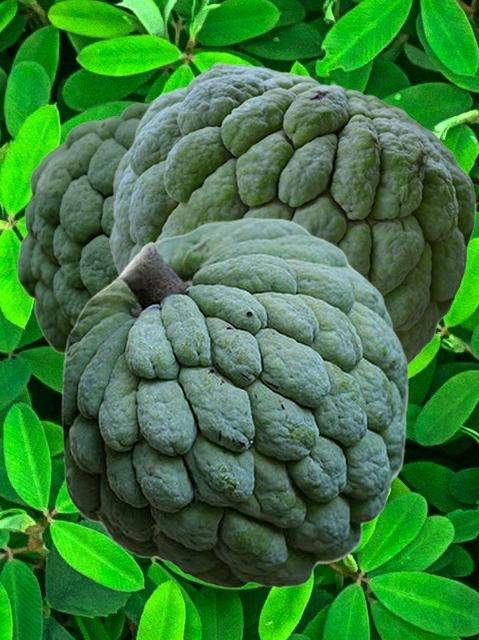atis: (61, 217, 408, 588), (109, 62, 475, 366), (16, 93, 160, 356)
